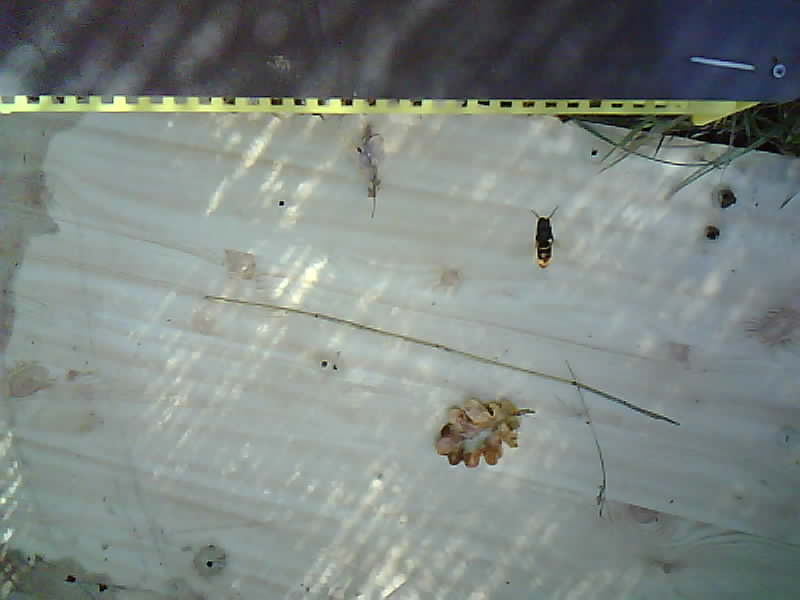bee: (531, 211, 557, 270)
